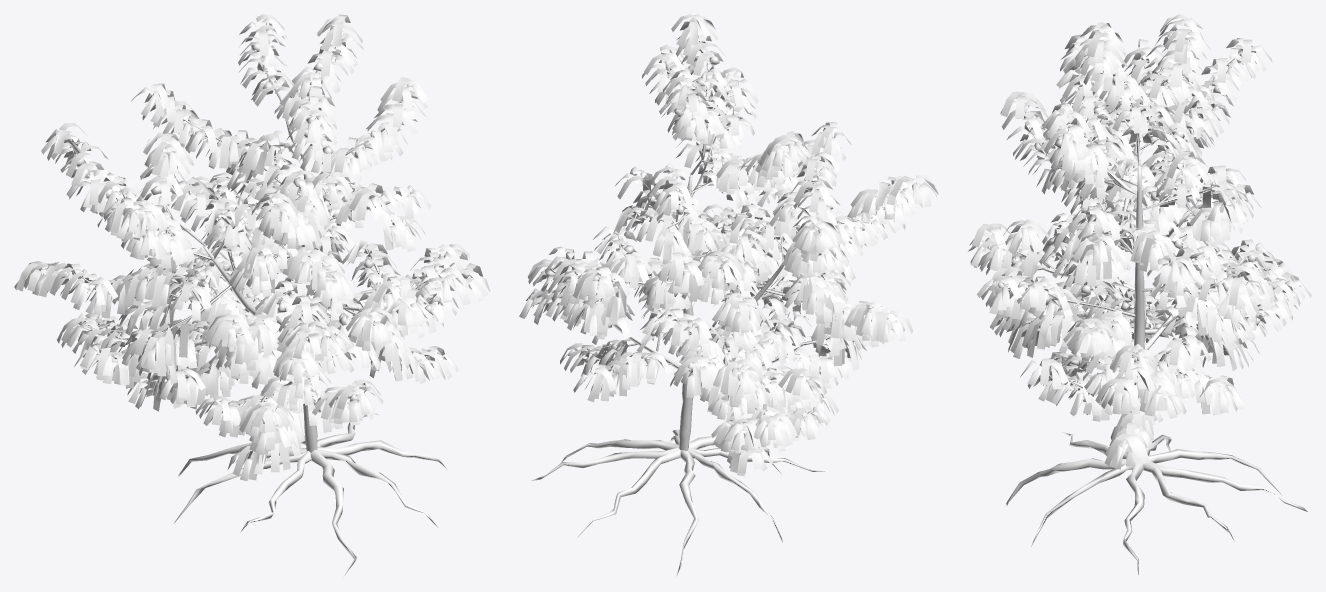
Rendered from peach.glb.
The picture shows the model from 3 angles, left to right: view 1: azimuth 30°, elevation 25°; view 2: azimuth 150°, elevation 25°; view 3: azimuth 270°, elevation 25°; orthographic projection. The views are drawn at different scales.
Visible parts, largest first — view 1: Bark01_2; view 2: Bark01_2; view 3: Bark01_2.
Part boxes in pixels (x1,y1,x2,y2): Bark01_2: [14, 14, 490, 575]; Bark01_2: [519, 14, 938, 576]; Bark01_2: [968, 14, 1311, 574].
Size of the model in its own units: 5.36 by 6.02 by 3.7.
Materials: 5 (3 with a texture image).
